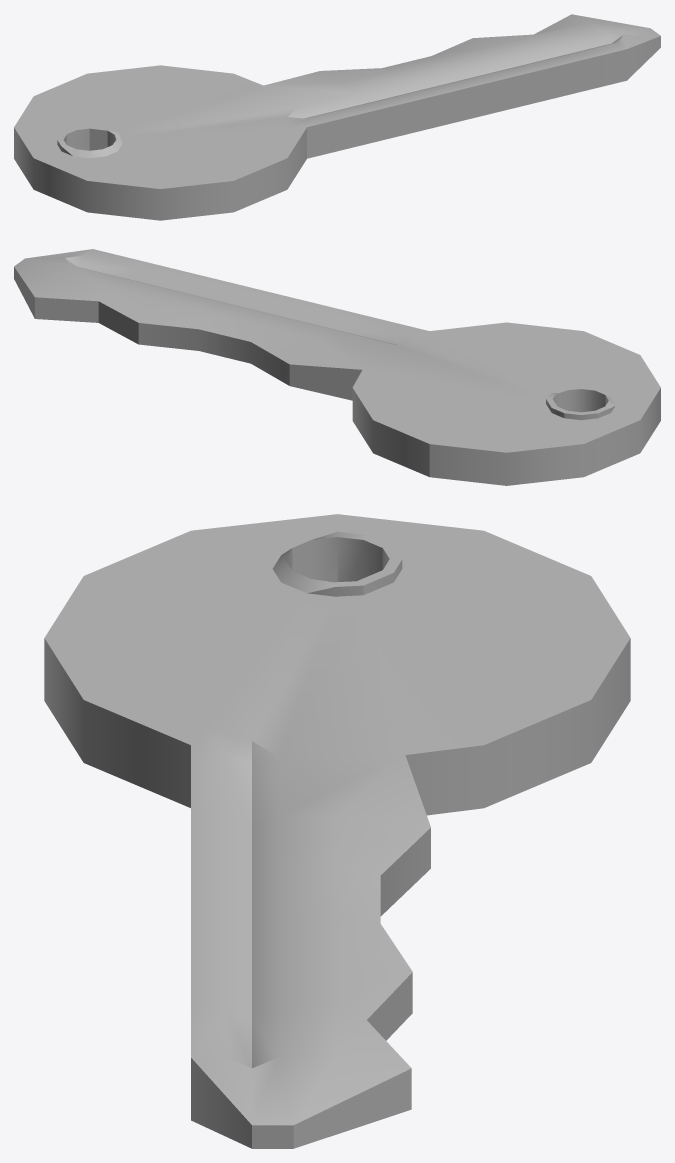
Rendered from Key_01.glb.
The picture shows the model from 3 angles, top to bottom: view 1: azimuth 30°, elevation 25°; view 2: azimuth 150°, elevation 25°; view 3: azimuth 270°, elevation 25°; orthographic projection. The views are drawn at different scales.
Parts seen in each view (by area): view 1: Mesh_Key_01; view 2: Mesh_Key_01; view 3: Mesh_Key_01.
Part boxes in pixels (box(x1,y1,x2,y2)): Mesh_Key_01: box(14, 14, 660, 220); Mesh_Key_01: box(14, 249, 660, 485); Mesh_Key_01: box(44, 514, 630, 1148).
Bounding box in the file's own units: 0.0543 × 0.00353 × 0.0227.
Materials: 1 (1 with a texture image).
